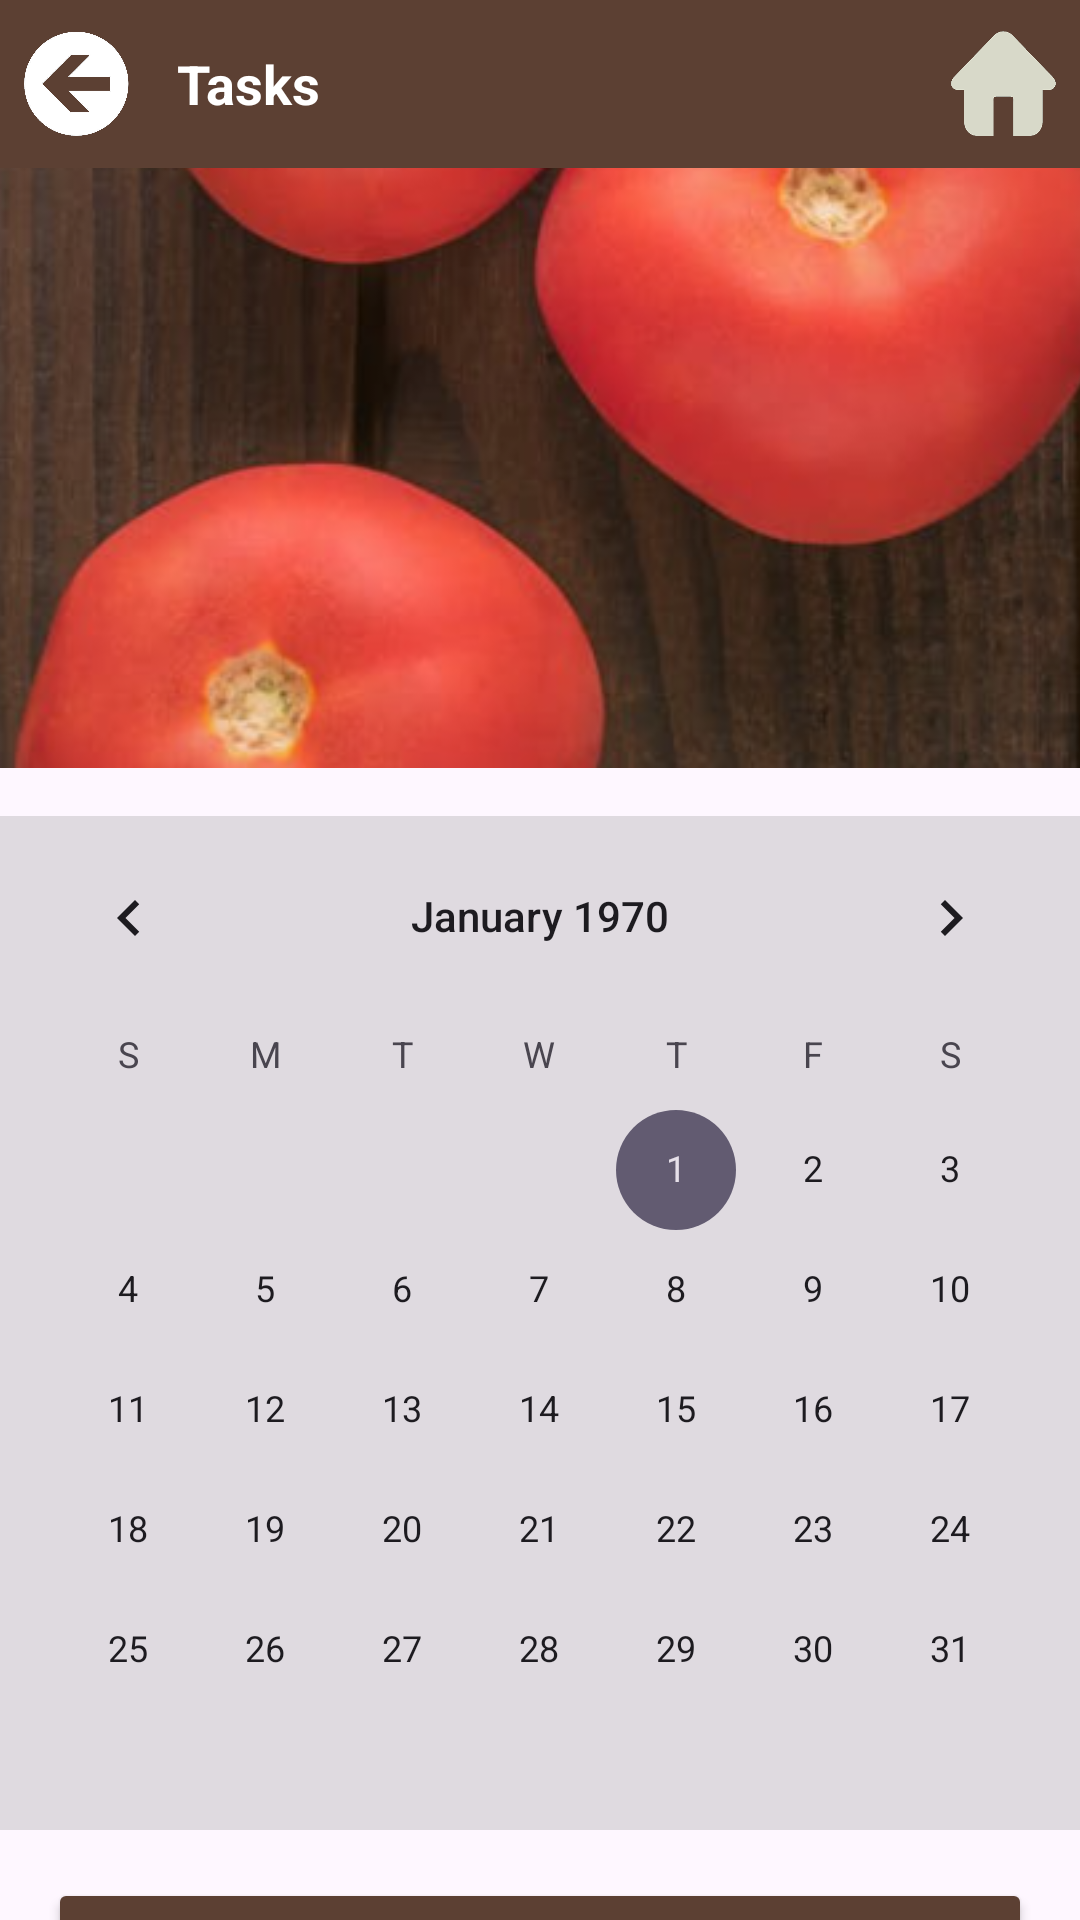

Where to tap for icons on this 1080w x 1920h app screen, as [x,y]:
Back: [76,84]
